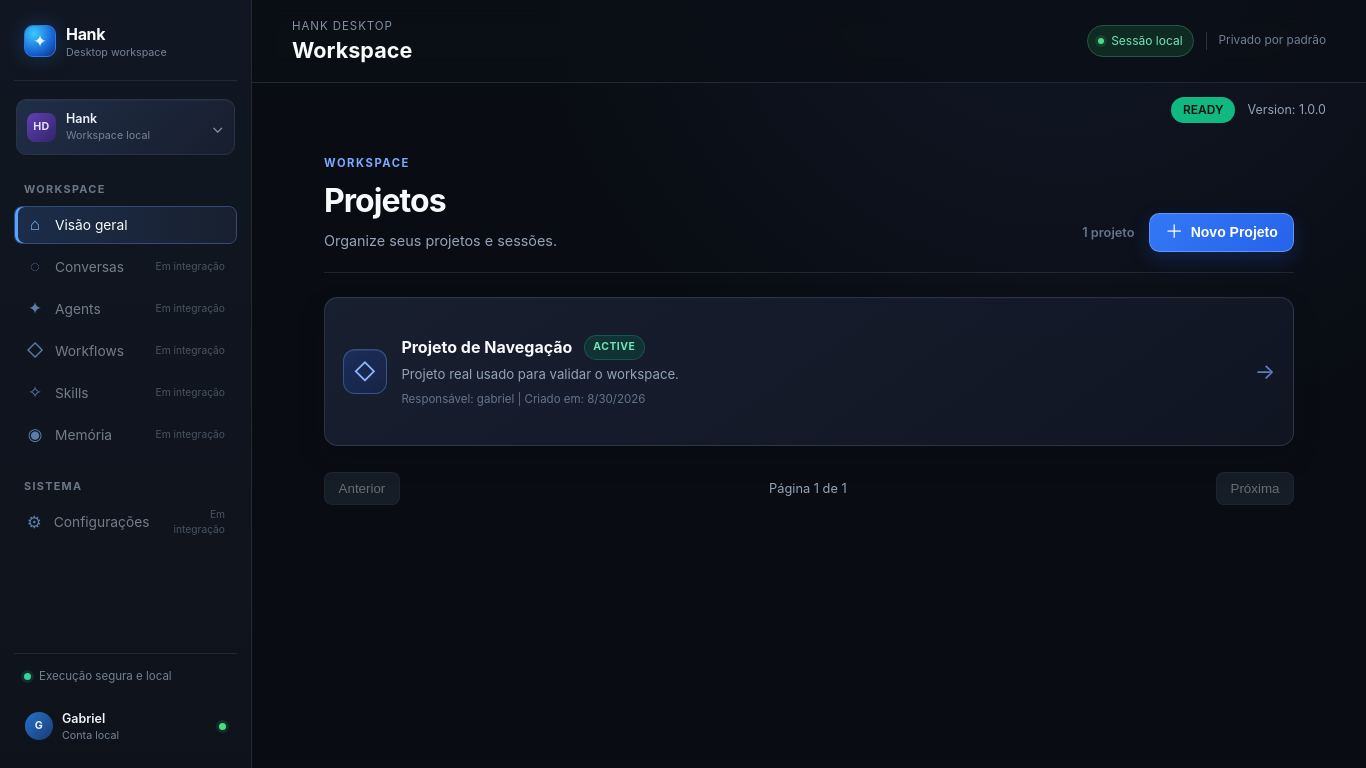
Test: Project workspace navigation › makes the selected project Agents workspace reachable from the sidebar
Click the list item with aria-label "Ver detalhes de Projeto de Navegação" at [809, 371], box [324, 297, 1294, 446]
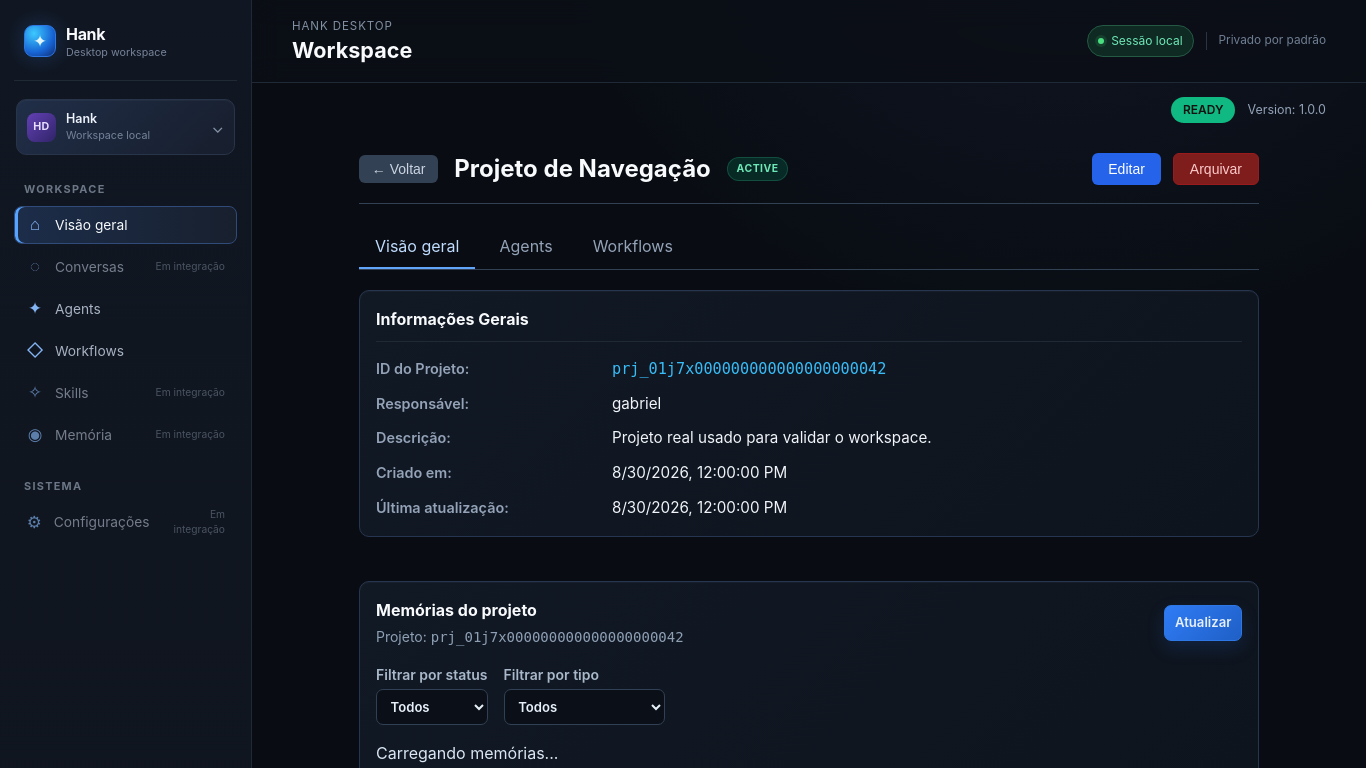
Expected: the button "⌂ Visão geral" is enabled, [14, 206, 237, 244]
Now the button "✦ Agents" is enabled
Now the button "◇ Workflows" is enabled, box [14, 332, 237, 370]
Click the button "✦ Agents" at [126, 309], box [14, 290, 237, 328]
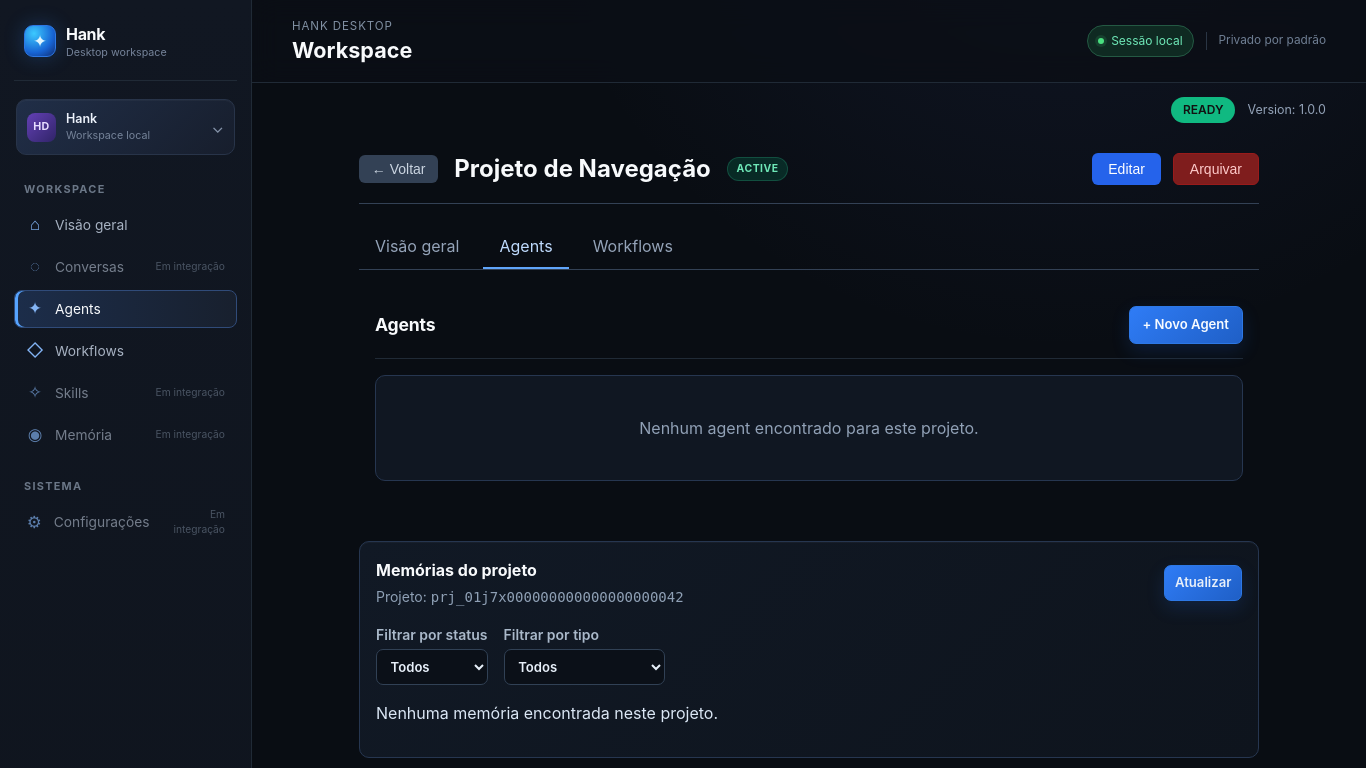
Now the heading "Agents" is shown, box [375, 312, 435, 338]
